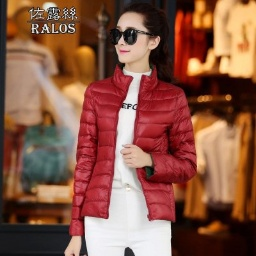face: (111, 4, 167, 78)
